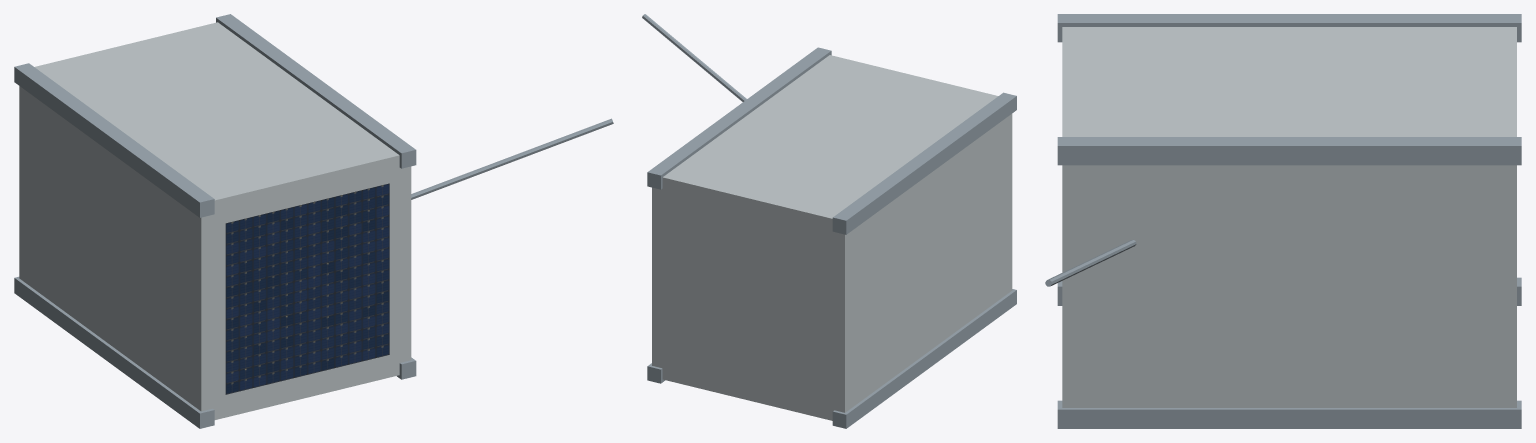
The model's file is ref-cubesat-6u-55044.glb.
The picture shows the model from 3 angles, left to right: view 1: azimuth 30°, elevation 25°; view 2: azimuth 150°, elevation 25°; view 3: azimuth 270°, elevation 25°; orthographic projection. The views are drawn at different scales.
Visible parts, largest first — view 1: Spacecraft body, Body-mounted cells, Dispenser rail (×3), Antenna boom; view 2: Spacecraft body, Dispenser rail (×3), Antenna boom; view 3: Spacecraft body, Dispenser rail (×3), Antenna boom.
Boxes of the visible parts, bbox=[...] form: Spacecraft body: bbox=[19, 22, 411, 419]; Body-mounted cells: bbox=[225, 183, 389, 394]; Dispenser rail (×3): bbox=[14, 14, 416, 428]; Antenna boom: bbox=[411, 118, 613, 199]; Spacecraft body: bbox=[652, 55, 1012, 420]; Dispenser rail (×3): bbox=[647, 47, 1016, 428]; Antenna boom: bbox=[642, 14, 746, 101]; Spacecraft body: bbox=[1062, 27, 1516, 407]; Dispenser rail (×3): bbox=[1057, 14, 1521, 428]; Antenna boom: bbox=[1045, 239, 1136, 286].
Size of the model in its own units: 0.3905 by 0.206 by 0.3142.
Materials: 3 (1 with a texture image).
